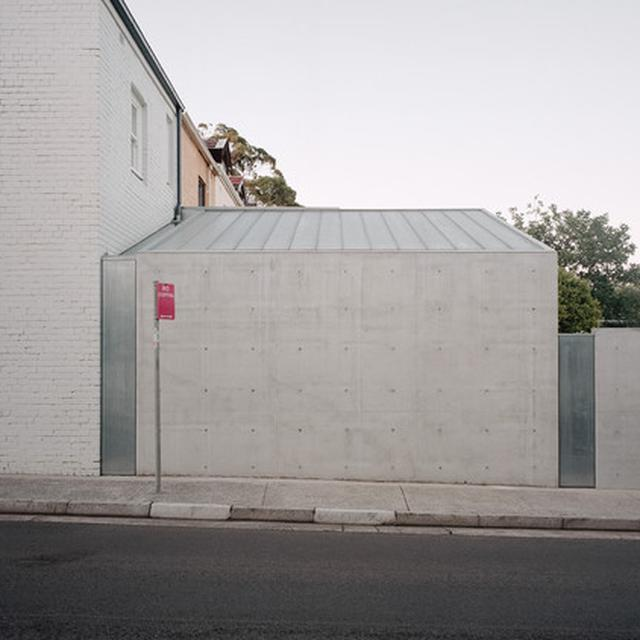building: (109, 202, 571, 495), (0, 0, 248, 478)
